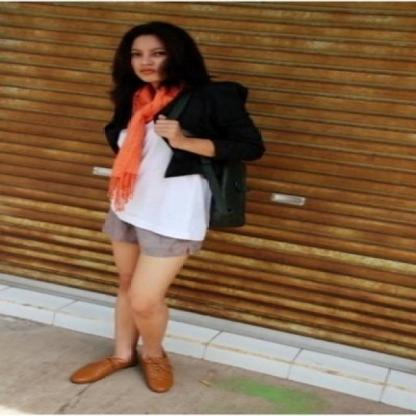jacket: (153, 78, 265, 232)
shirt: (116, 127, 210, 240)
shoe: (70, 349, 172, 392)
shorts: (95, 209, 205, 257)
